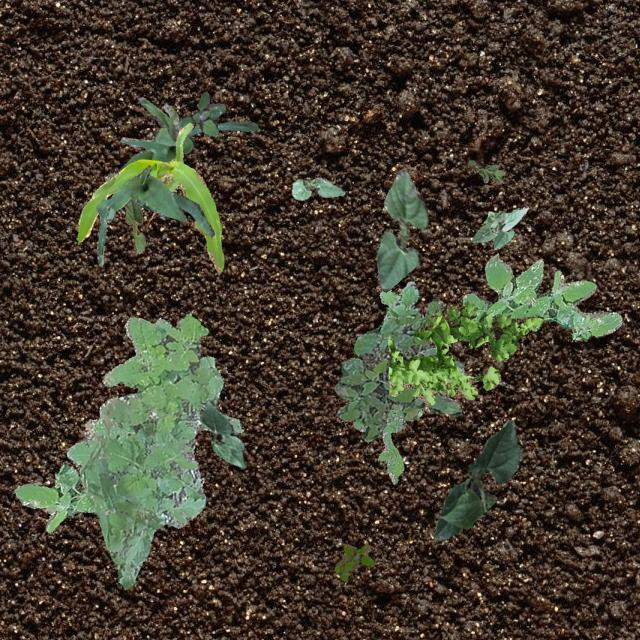crop: (76, 121, 222, 272), (106, 95, 256, 218), (95, 164, 214, 264), (434, 420, 522, 540), (376, 168, 428, 292), (198, 398, 246, 468), (472, 204, 528, 248), (290, 176, 344, 198), (124, 200, 144, 252)
weed: (65, 312, 242, 588), (334, 280, 462, 440), (387, 301, 542, 404), (462, 252, 620, 340), (352, 402, 422, 482), (14, 464, 94, 532), (177, 90, 224, 136), (334, 544, 374, 580), (468, 160, 504, 182)
